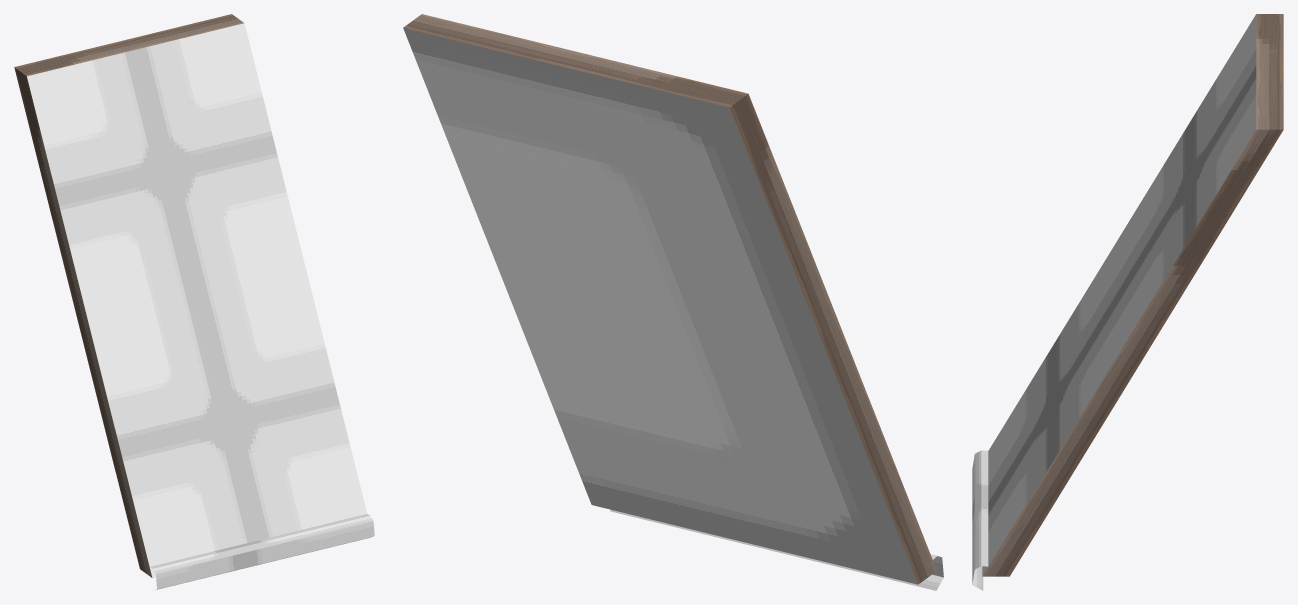
File: SM_Roof_09.fbx
The picture shows the model from 3 angles, left to right: view 1: azimuth 30°, elevation 25°; view 2: azimuth 150°, elevation 25°; view 3: azimuth 270°, elevation 25°; orthographic projection. The views are drawn at different scales.
Visible parts, largest first — view 1: SM_Roof_09_LOD0; view 2: SM_Roof_09_LOD0; view 3: SM_Roof_09_LOD0.
Part boxes in pixels (left/top/right/bottom): SM_Roof_09_LOD0: left=14, top=14, right=374, bottom=589; SM_Roof_09_LOD0: left=403, top=14, right=943, bottom=590; SM_Roof_09_LOD0: left=972, top=14, right=1283, bottom=590.
Size of the model in its own units: 500 by 568 by 929.
